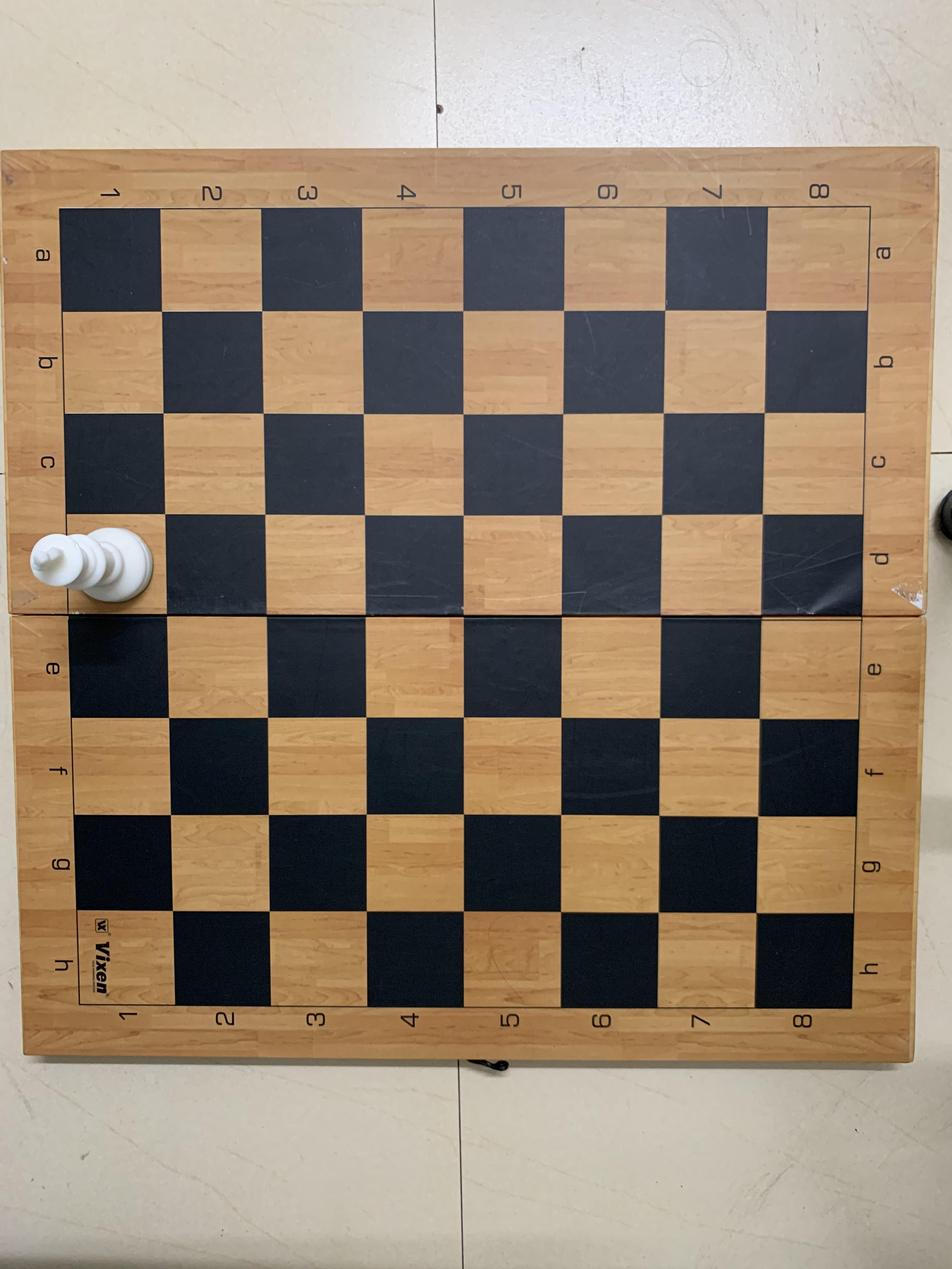white_king: (31, 516, 165, 611)
